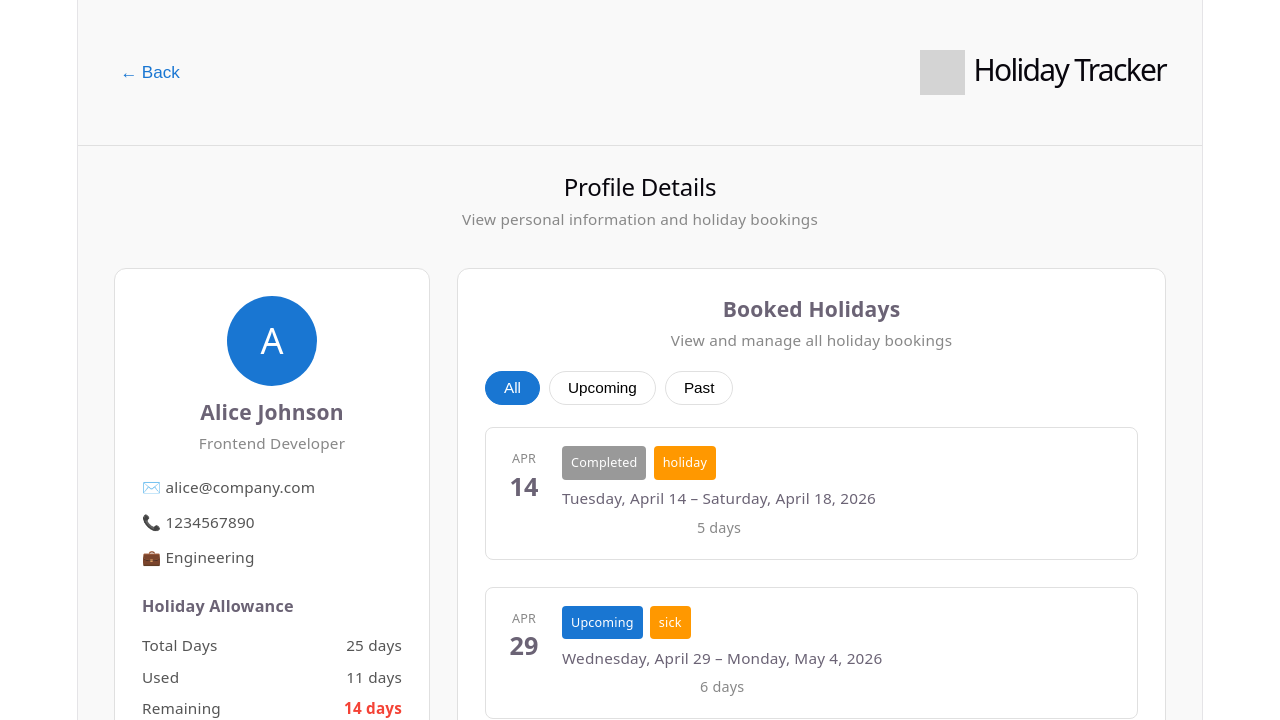
PersonProfile › filters to only past holidays when Past tab is clicked
What coordinates should you click on to do the following:
click the button "Past"
I would click on:
 (699, 388)
Its box is [665,371,734,405].
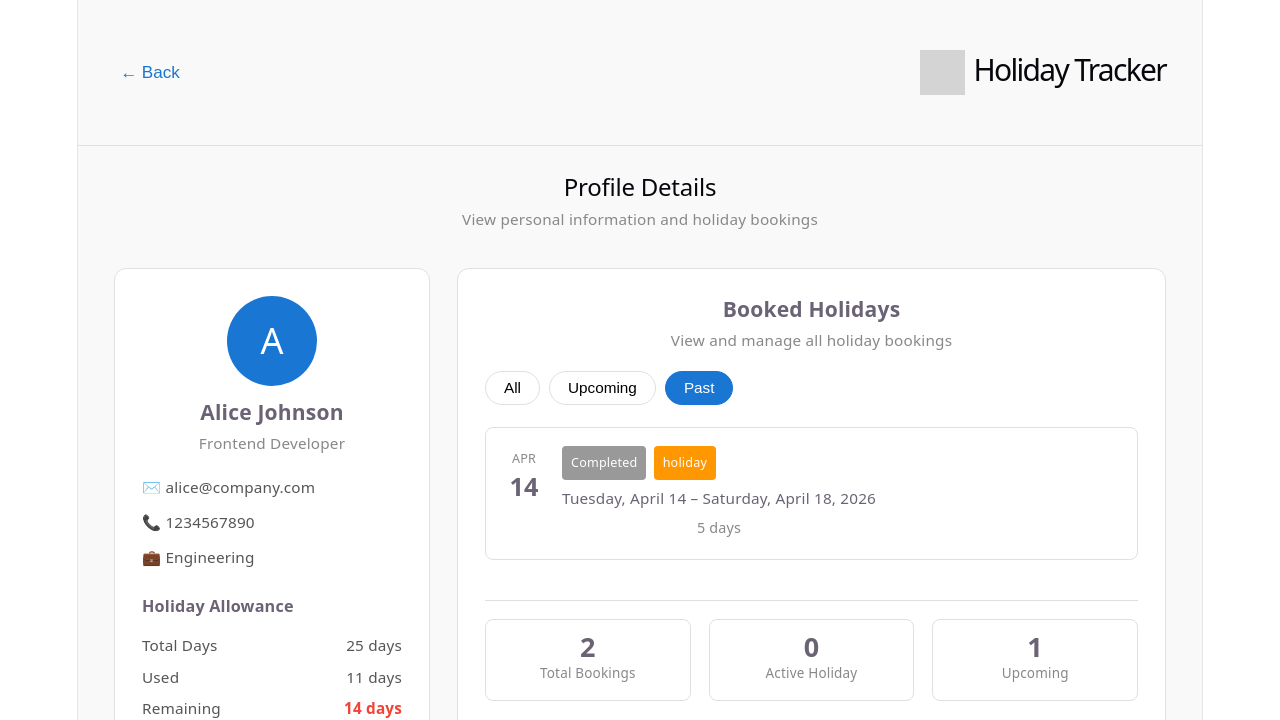
Expected: the text "holiday" is shown, [654,446,716,480]
Now the text "sick" is gone
